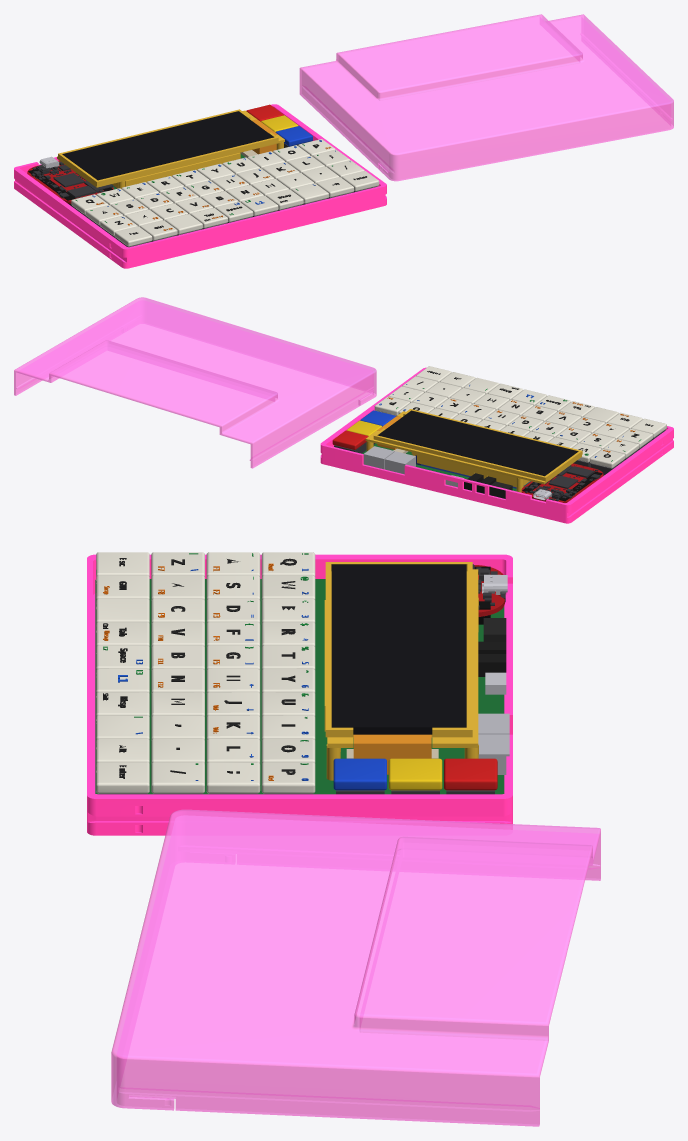
The model's file is beside_bubblegum.glb.
The picture shows the model from 3 angles, top to bottom: view 1: azimuth 30°, elevation 25°; view 2: azimuth 150°, elevation 25°; view 3: azimuth 270°, elevation 25°; orthographic projection. The views are drawn at different scales.
Parts seen in each view (by area): view 1: Lid, Internals, Tray; view 2: Lid, Internals, Tray; view 3: Lid, Internals, Tray.
Part boxes in pixels (x1=…): Lid: x1=299, y1=14, x2=673, y2=181; Internals: x1=27, y1=104, x2=379, y2=247; Tray: x1=14, y1=104, x2=386, y2=268; Lid: x1=14, y1=297, x2=376, y2=468; Internals: x1=332, y1=366, x2=666, y2=502; Tray: x1=320, y1=367, x2=673, y2=523; Lid: x1=111, y1=809, x2=600, y2=1126; Internals: x1=95, y1=552, x2=509, y2=794; Tray: x1=87, y1=554, x2=512, y2=835.
Size of the model in its own units: 0.3903 by 0.0227 by 0.1583.
